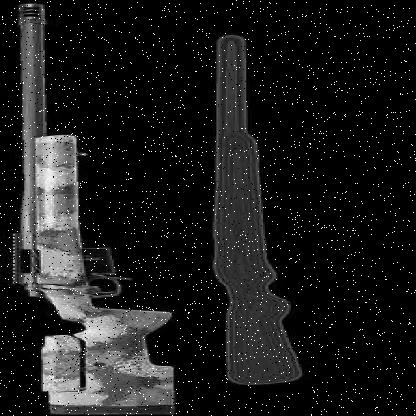rifle: (0, 1, 189, 416)
